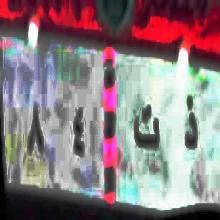4: (71, 104, 87, 165)
8: (27, 103, 45, 166)
taa: (132, 101, 162, 156)
zaal: (182, 90, 200, 161)
